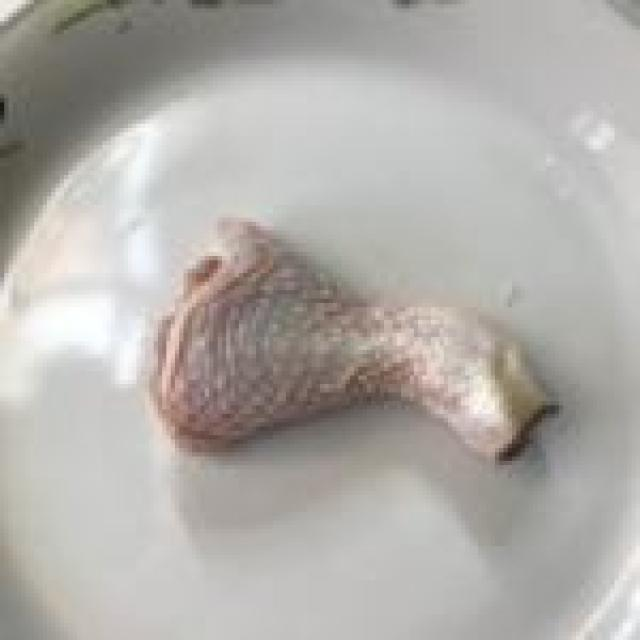leg: (153, 215, 551, 474)
